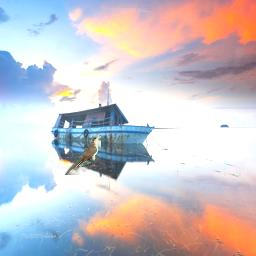Cuckoo: (65, 135, 101, 175)
